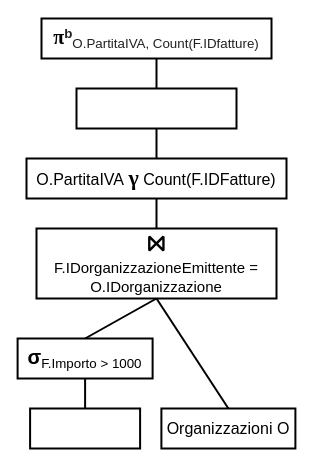
This 314x466 diagram has some shape labels left out. Here are the shapes that lost their labels. From the top down, the centre of each, then its label:
[156,108]: σ Count(F.IDFatture) > 3
[85,428]: Fatture F
